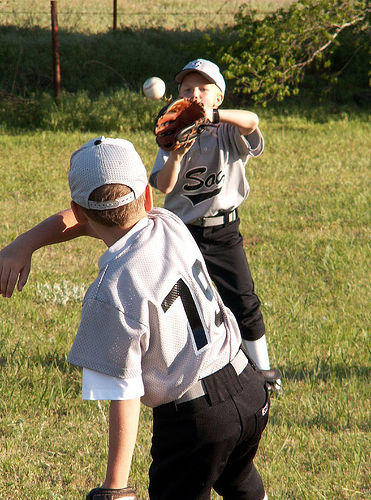without_mask: (173, 70, 223, 123)
